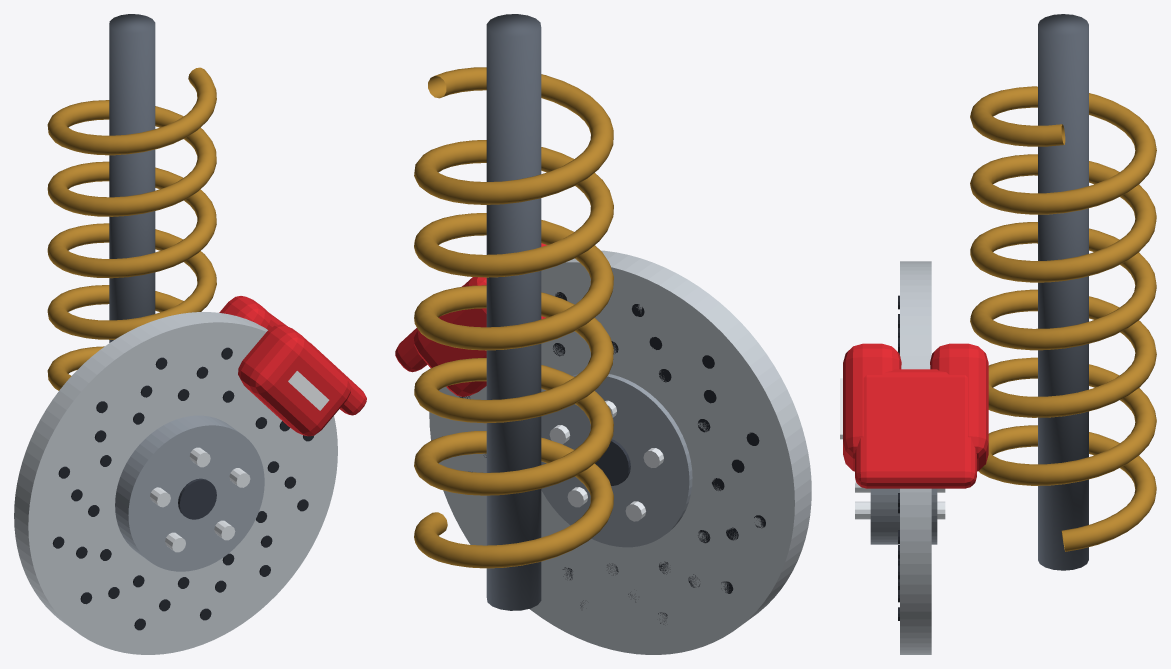
The model's file is freno_disco.glb.
3 renders of one model, left to right at view 1: azimuth 30°, elevation 25°; view 2: azimuth 150°, elevation 25°; view 3: azimuth 270°, elevation 25°, orthographic. The views are drawn at different scales.
Parts seen in each view (by area): view 1: rotor, muelle, Cylinder, pinza; view 2: rotor, muelle, Cylinder, pinza; view 3: muelle, Cylinder, pinza, rotor.
Part boxes in pixels (x1,y1,x2,y2): rotor: (14,312,337,654); muelle: (47,67,216,390); Cylinder: (109,14,155,342); pinza: (219,296,366,436); rotor: (429,250,811,654); muelle: (414,67,613,568); Cylinder: (486,14,541,610); pinza: (395,243,546,396); muelle: (970,86,1156,551); Cylinder: (1038,14,1088,570); pinza: (840,343,988,488); rotor: (855,261,945,654).
Size of the model in its own units: 2.08 by 3.5 by 1.61.
